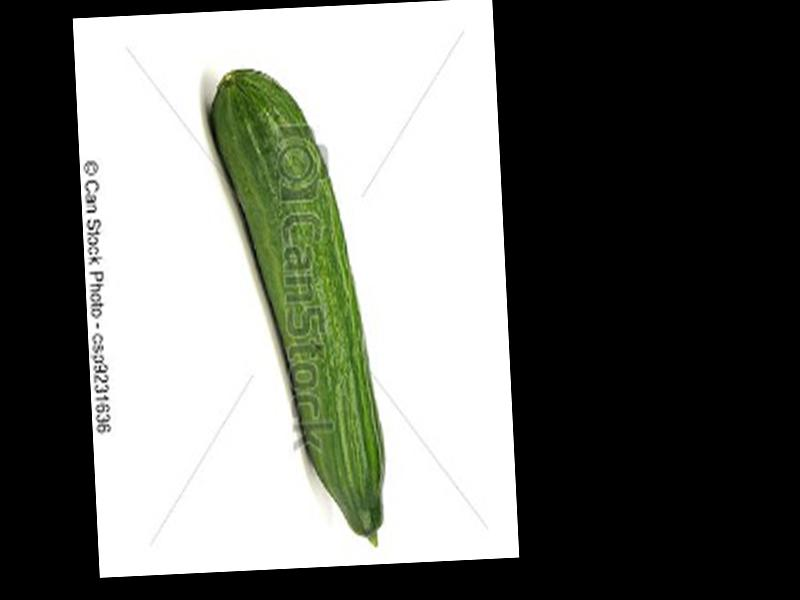Cucumber: (208, 66, 386, 552)
